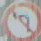Don't turn left: (1, 3, 38, 40)
